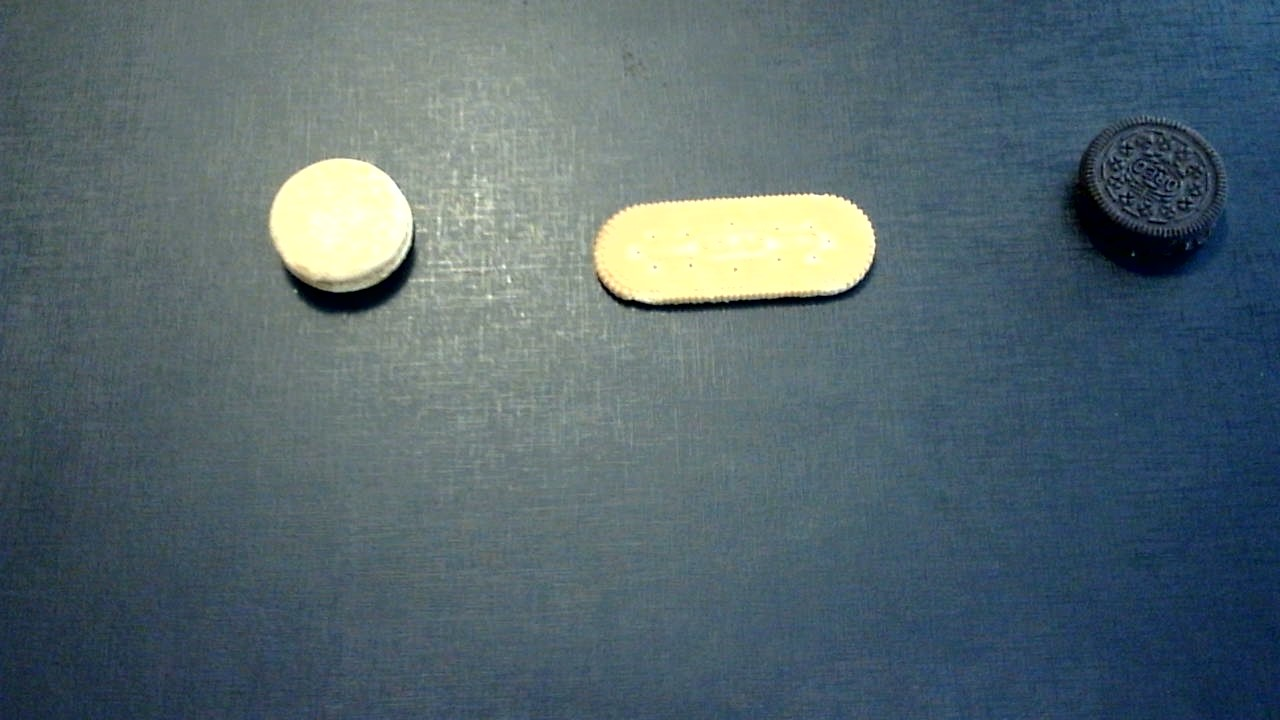lulu: (269, 156, 415, 296)
oreo: (1081, 114, 1227, 258)
solar: (594, 194, 877, 306)
